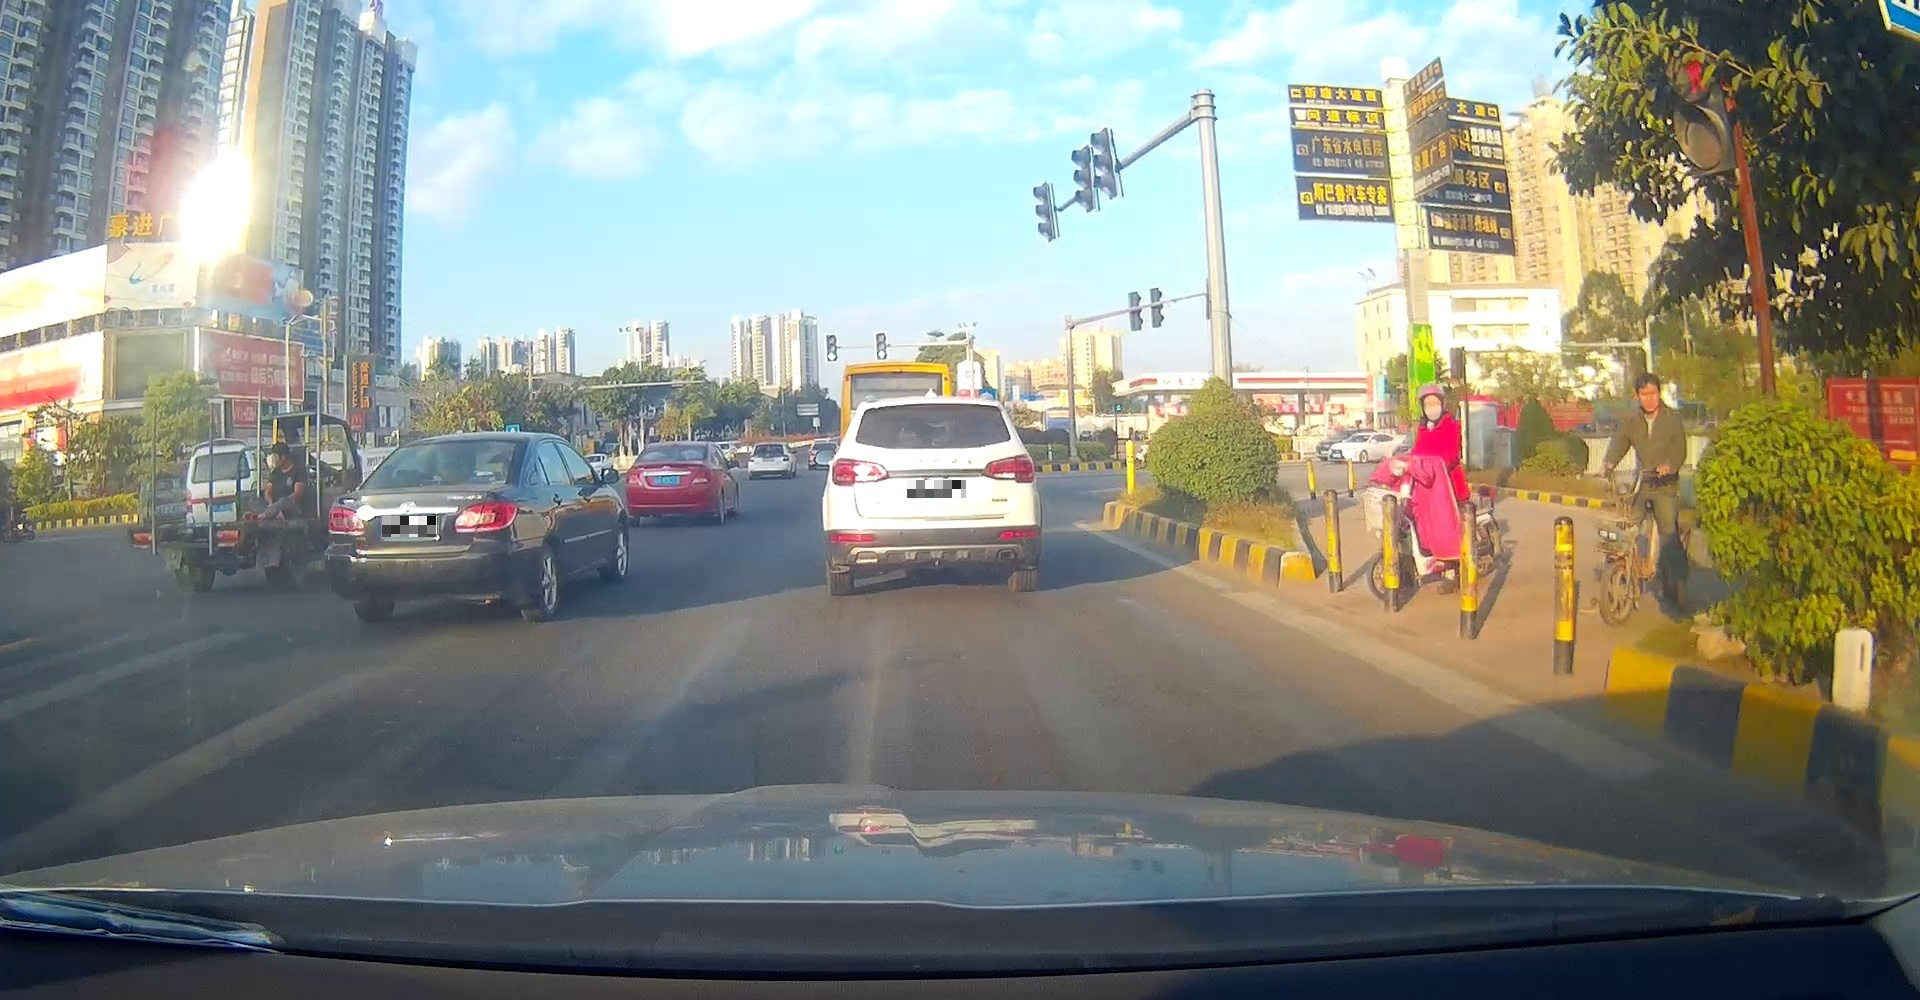L_light: (832, 459, 890, 486), (328, 506, 364, 534), (625, 471, 641, 485)
R_light: (453, 501, 518, 534), (982, 453, 1034, 484), (690, 470, 716, 485)
T_light: (914, 404, 957, 407), (417, 480, 442, 486), (662, 458, 678, 461)
day-no: (822, 393, 1041, 596), (323, 431, 532, 622), (625, 442, 717, 525)
plate_1: (382, 516, 437, 537)
plate_2: (907, 480, 966, 497)
